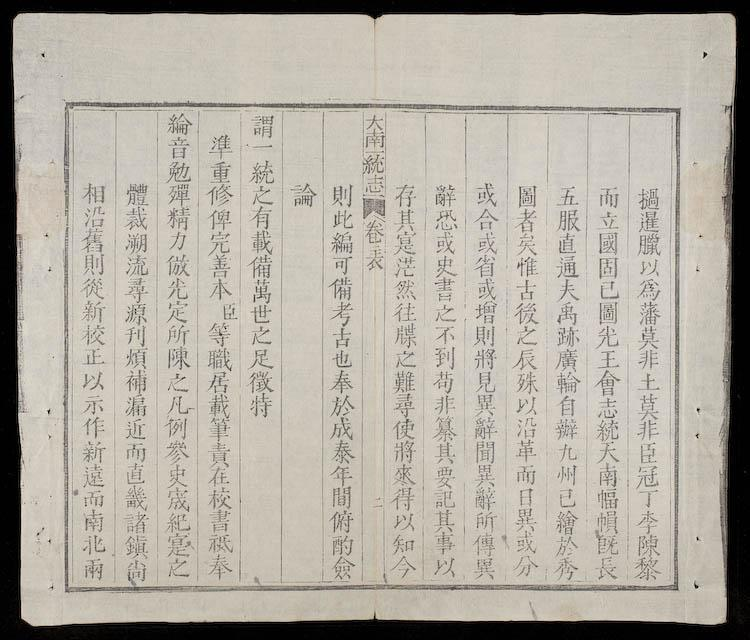c: (247, 112, 277, 139), (288, 180, 318, 207), (634, 392, 663, 419), (206, 132, 235, 158), (247, 158, 276, 184), (204, 440, 233, 466), (593, 370, 622, 396), (163, 532, 193, 557), (204, 554, 234, 579), (632, 557, 663, 581), (122, 485, 150, 511), (206, 320, 234, 346), (430, 415, 458, 441), (123, 180, 151, 206), (122, 277, 151, 302), (633, 464, 662, 489), (121, 534, 151, 558), (121, 510, 151, 534), (164, 111, 194, 135), (204, 416, 234, 440), (204, 347, 235, 370), (473, 180, 500, 206), (391, 322, 419, 347), (431, 182, 459, 207), (634, 508, 662, 533), (472, 207, 500, 232), (79, 463, 107, 488), (554, 207, 582, 232), (552, 509, 580, 534), (593, 509, 622, 533), (79, 180, 108, 204), (122, 207, 151, 231), (429, 508, 458, 532), (634, 533, 663, 557), (79, 228, 108, 252), (79, 204, 108, 228), (204, 370, 233, 394), (79, 439, 108, 463), (246, 254, 275, 278), (246, 369, 275, 393), (591, 556, 621, 579), (78, 299, 108, 322), (78, 323, 108, 346), (513, 208, 540, 233), (328, 275, 355, 300), (80, 556, 107, 581), (431, 277, 458, 302), (392, 182, 419, 207), (329, 555, 356, 580), (206, 254, 234, 278), (470, 532, 498, 556), (164, 205, 192, 229), (635, 185, 663, 209), (164, 252, 192, 276), (390, 369, 418, 393), (164, 346, 192, 370), (553, 348, 581, 372), (635, 209, 663, 233), (205, 393, 233, 417), (553, 183, 581, 207), (390, 439, 418, 463), (163, 439, 191, 463), (248, 229, 276, 253), (635, 301, 663, 325), (164, 160, 193, 183), (78, 276, 107, 299), (634, 233, 663, 256), (205, 183, 234, 206), (203, 486, 233, 508), (329, 181, 354, 207), (248, 278, 274, 303), (595, 183, 621, 208), (206, 230, 233, 254), (392, 208, 419, 232), (164, 464, 191, 488), (390, 485, 417, 509), (390, 392, 417, 416), (472, 254, 499, 278), (594, 463, 621, 487), (80, 508, 107, 532), (122, 393, 149, 417), (123, 559, 150, 583), (512, 507, 539, 531), (328, 301, 355, 325), (431, 345, 458, 369), (247, 205, 274, 229), (164, 487, 191, 511), (247, 393, 274, 417), (122, 369, 149, 393), (206, 207, 234, 230), (430, 441, 458, 464), (552, 557, 580, 580), (470, 557, 498, 580), (430, 531, 458, 554), (80, 415, 108, 438), (552, 417, 580, 440), (553, 371, 581, 394), (635, 326, 663, 349), (389, 554, 417, 577), (205, 509, 233, 532), (635, 277, 663, 300), (328, 393, 356, 416), (391, 255, 419, 278), (471, 416, 499, 439), (163, 511, 192, 533), (79, 253, 108, 275), (511, 554, 540, 576), (204, 532, 234, 553), (329, 439, 355, 463), (431, 464, 457, 488), (328, 508, 354, 532), (329, 230, 355, 254), (594, 231, 621, 254), (471, 324, 498, 347), (207, 160, 234, 183), (472, 301, 499, 324), (513, 302, 540, 325), (471, 463, 498, 486), (165, 136, 192, 159), (471, 486, 498, 509), (390, 462, 417, 485), (594, 325, 621, 348), (123, 254, 150, 277), (392, 278, 419, 301), (328, 369, 355, 392), (328, 416, 355, 439), (432, 208, 459, 231), (553, 255, 580, 278), (593, 419, 621, 441), (206, 278, 234, 300), (593, 487, 621, 509), (121, 418, 149, 440), (593, 533, 621, 555), (389, 532, 417, 554), (328, 533, 356, 555), (165, 183, 193, 205), (122, 347, 150, 369), (515, 183, 539, 208), (472, 440, 498, 463), (472, 347, 498, 370), (513, 371, 539, 394), (329, 325, 355, 348), (635, 441, 661, 464), (472, 393, 498, 416), (328, 484, 354, 507), (472, 370, 498, 393), (473, 278, 499, 301), (164, 277, 190, 300), (164, 300, 190, 323), (595, 256, 621, 279), (430, 370, 456, 393), (594, 441, 621, 463), (431, 393, 458, 415), (594, 397, 621, 419), (390, 417, 417, 439), (473, 232, 500, 254), (512, 348, 539, 370), (554, 279, 581, 301), (513, 256, 540, 278), (554, 326, 581, 348), (80, 533, 107, 555), (80, 393, 107, 415), (472, 509, 499, 531), (247, 347, 274, 369), (123, 231, 150, 253), (79, 369, 106, 391), (122, 302, 149, 324), (163, 416, 190, 438), (513, 416, 540, 438), (164, 557, 192, 578), (430, 556, 458, 577), (390, 510, 418, 531), (634, 419, 662, 440), (391, 301, 419, 322), (596, 301, 620, 325), (361, 152, 386, 175), (555, 302, 580, 325), (514, 233, 539, 256), (513, 439, 538, 462), (392, 232, 418, 254), (512, 463, 538, 485), (554, 232, 580, 254), (164, 323, 190, 345), (432, 255, 458, 277), (513, 531, 539, 553), (513, 325, 539, 347), (164, 371, 190, 393), (432, 232, 458, 254), (122, 325, 149, 346), (594, 349, 621, 370), (635, 349, 662, 370), (205, 465, 232, 486), (79, 346, 106, 367), (552, 535, 579, 556), (554, 463, 579, 485), (122, 462, 147, 484), (330, 208, 355, 230), (554, 395, 579, 417), (514, 279, 539, 301), (247, 325, 273, 346), (122, 441, 148, 462), (554, 442, 580, 463), (636, 257, 663, 277), (430, 488, 457, 508), (80, 488, 107, 508), (635, 371, 662, 391), (555, 486, 579, 508), (165, 230, 190, 251), (165, 394, 190, 415), (432, 324, 457, 345), (392, 348, 418, 368), (513, 395, 539, 415), (329, 463, 355, 483), (595, 210, 621, 230), (249, 303, 273, 324), (362, 175, 386, 196), (432, 303, 457, 323), (249, 185, 274, 205), (635, 488, 661, 507), (329, 255, 354, 274), (245, 140, 276, 155), (331, 348, 354, 368), (597, 280, 620, 300), (514, 486, 537, 506), (363, 131, 385, 149), (218, 301, 238, 320), (364, 113, 384, 131), (364, 216, 386, 231), (363, 229, 386, 243), (365, 256, 385, 272), (366, 243, 384, 256)
